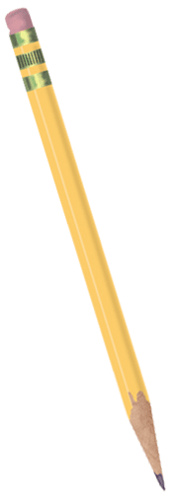pen_tip: (108, 383, 172, 500)
